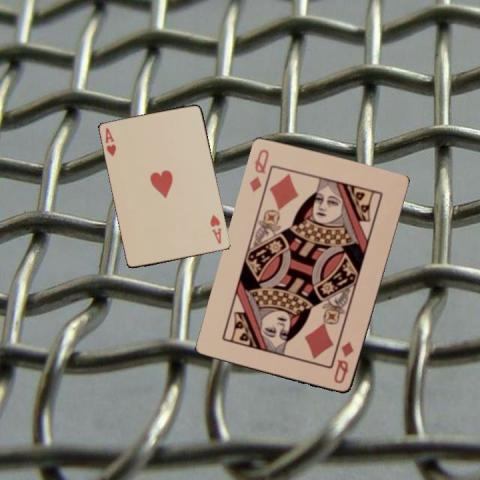Ah: (208, 212, 224, 246), (102, 125, 118, 157)
Qd: (246, 146, 271, 194), (331, 339, 355, 386)
